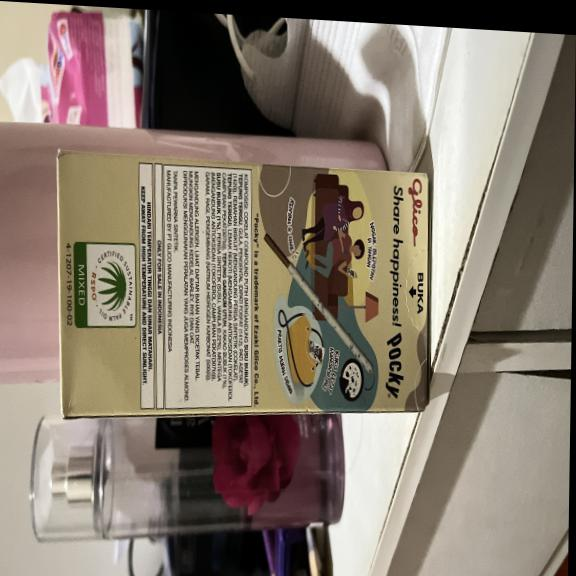Kertas: (61, 148, 432, 417)
